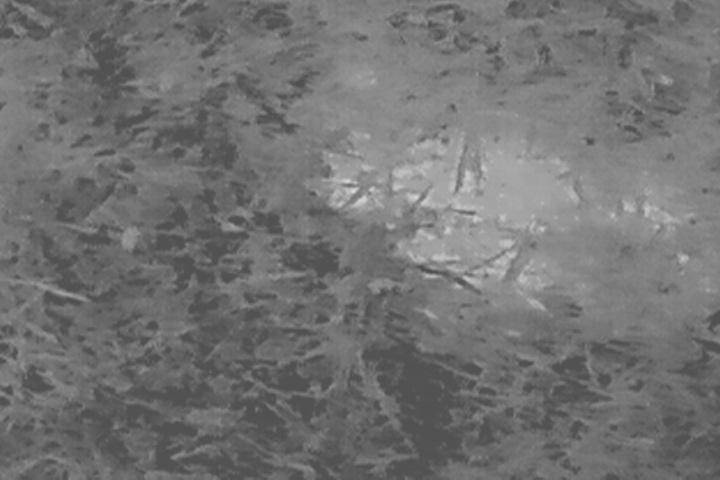landmine: (307, 109, 705, 314)
